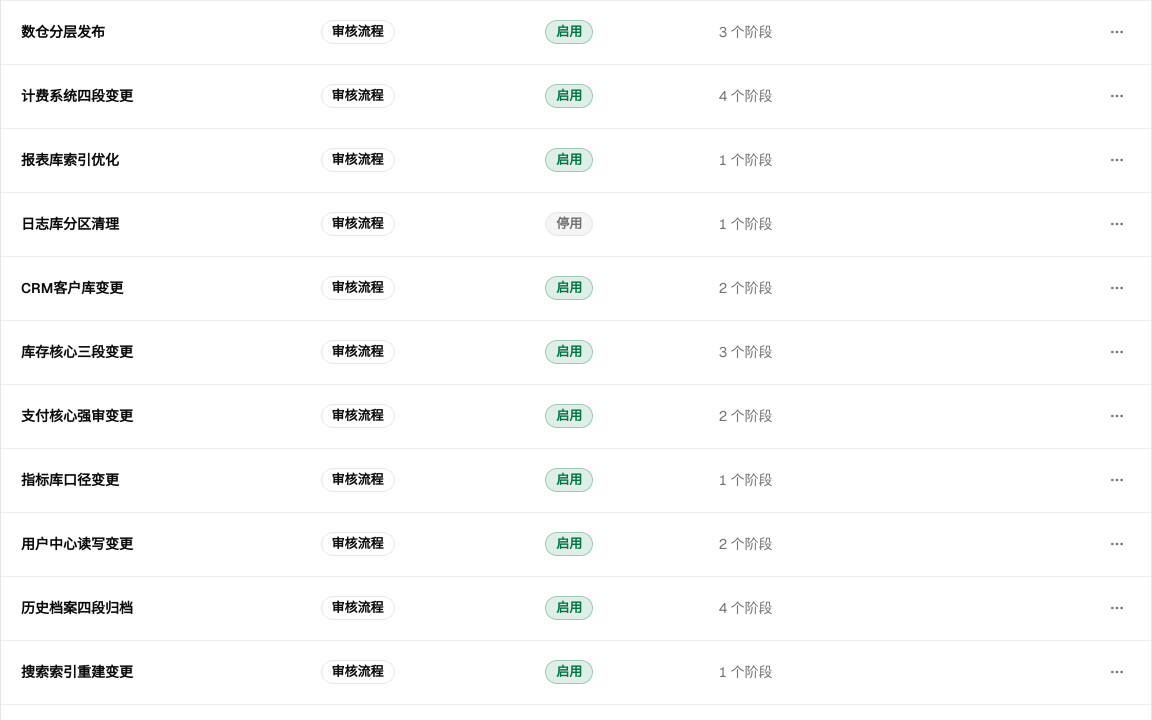
it: gate: 流程双表单符合新模型（§3） › exposes the sensitive-column vocabulary on the query-flow editor (Q006)
(page scrolled)
Press Enter
(page scrolled)
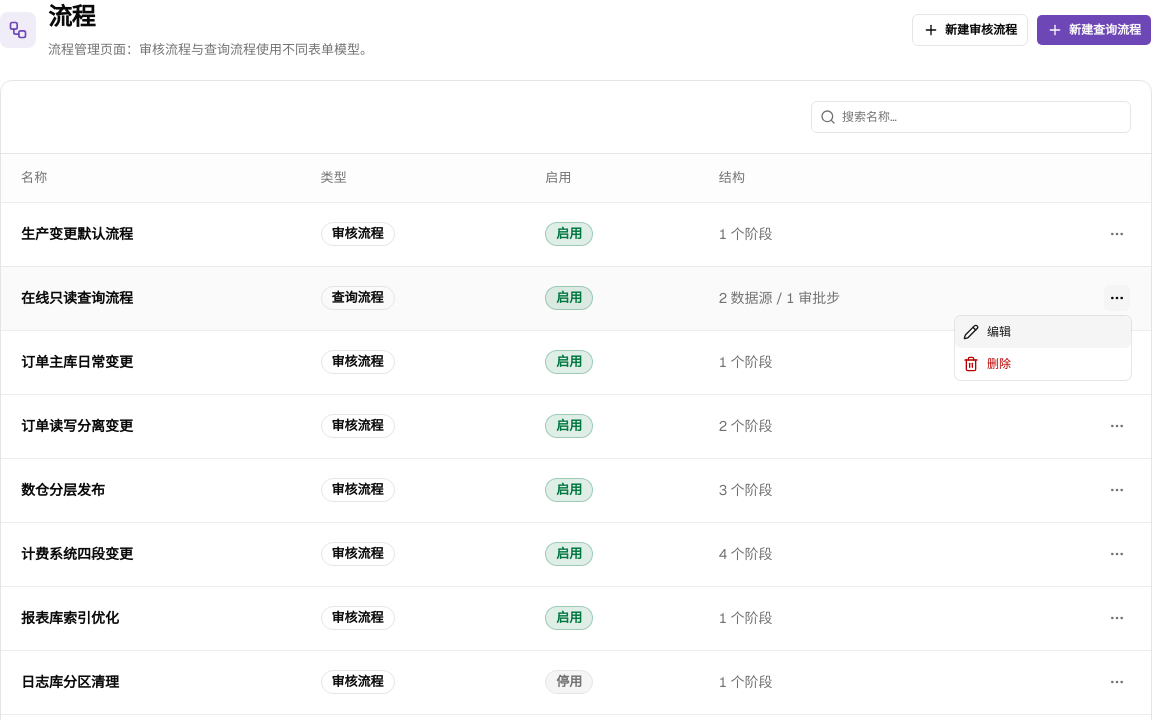
Click the menu item with test id "admin-flow-edit-" at [1043, 332], box [955,316,1131,348]
(page scrolled)
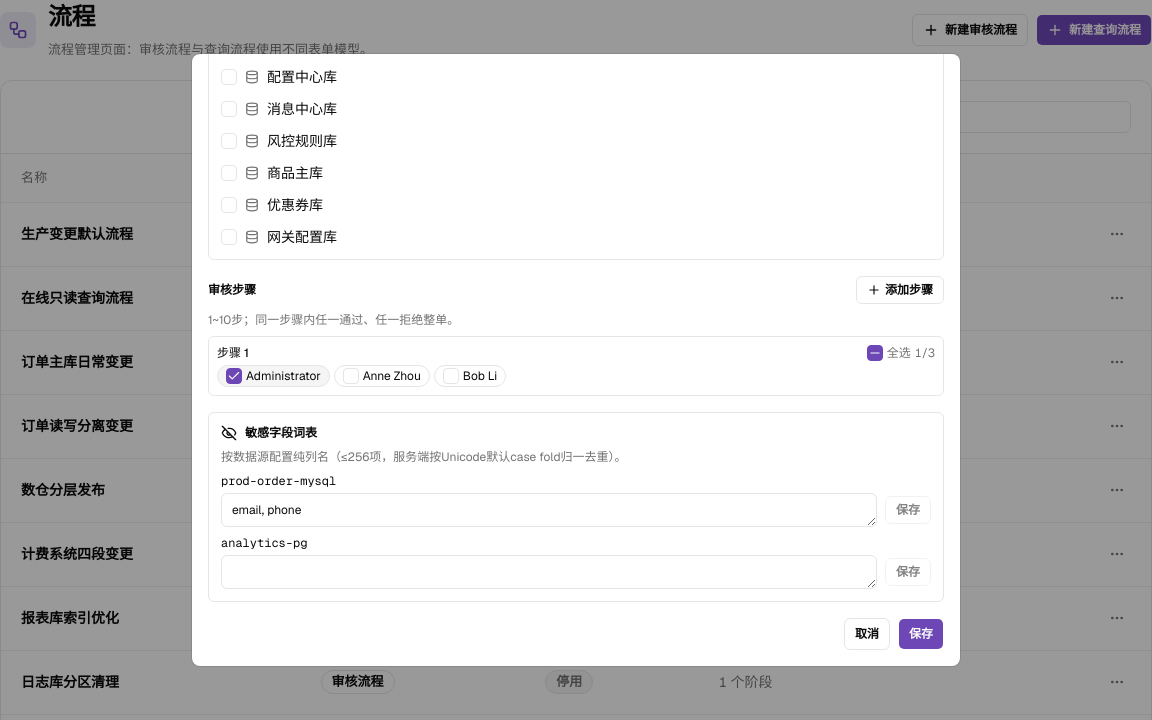
Check: the element with test id "flow-masking-rules" shows "敏感字段词表", box [245,425,317,441]
